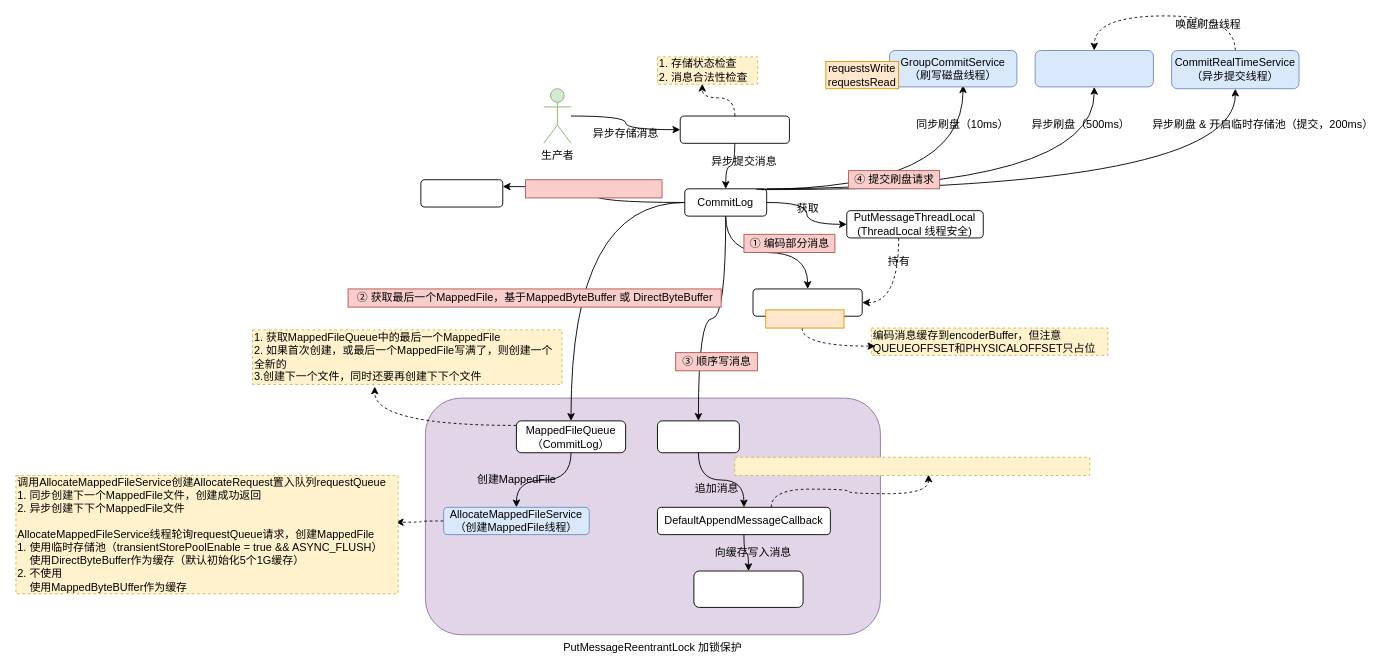
This 1397x670 diagram has some shape labels left out. The centre of each missing label's shape, as x and y in pixels:
DefaultMessageStore: point (734, 129)
encoderBuffer: point (804, 318)
FlushRealTimeService （异步刷盘线程）: point (1093, 68)
HAService: point (461, 193)
MappedByteBuffer 或 DirectByteBuffer: point (748, 588)
MappedFile: point (698, 436)
MessageExtEncoder: point (807, 302)
⑤ 提交主从同步复制请求: point (593, 188)
延迟更新 QUEUEOFFSET，PHYSICALOFFSET， STORETIMESTAMP: point (912, 465)
